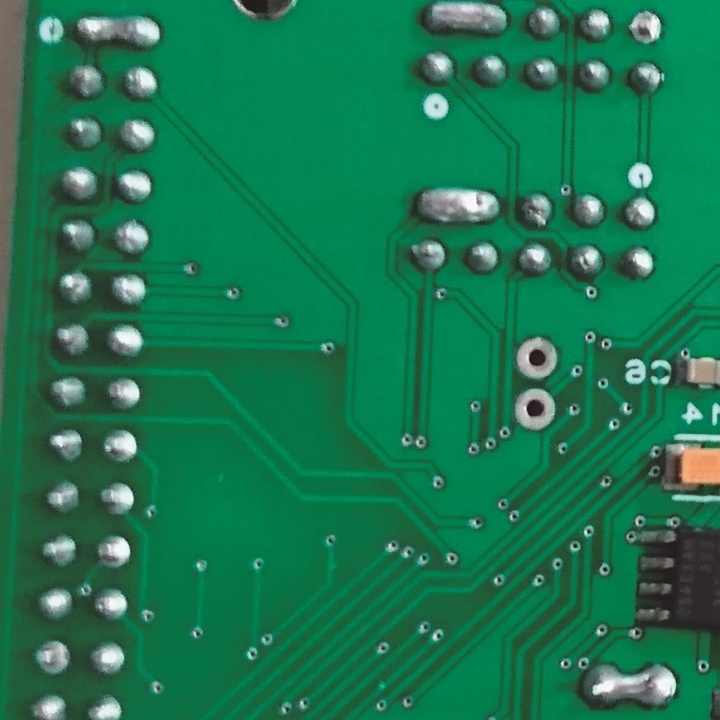F: (515, 332, 560, 383), (512, 386, 559, 433), (100, 426, 141, 474), (626, 8, 665, 52), (31, 638, 72, 679), (93, 534, 133, 575)
P: (579, 660, 681, 712), (411, 183, 503, 228), (70, 9, 164, 52), (418, 1, 511, 38)
